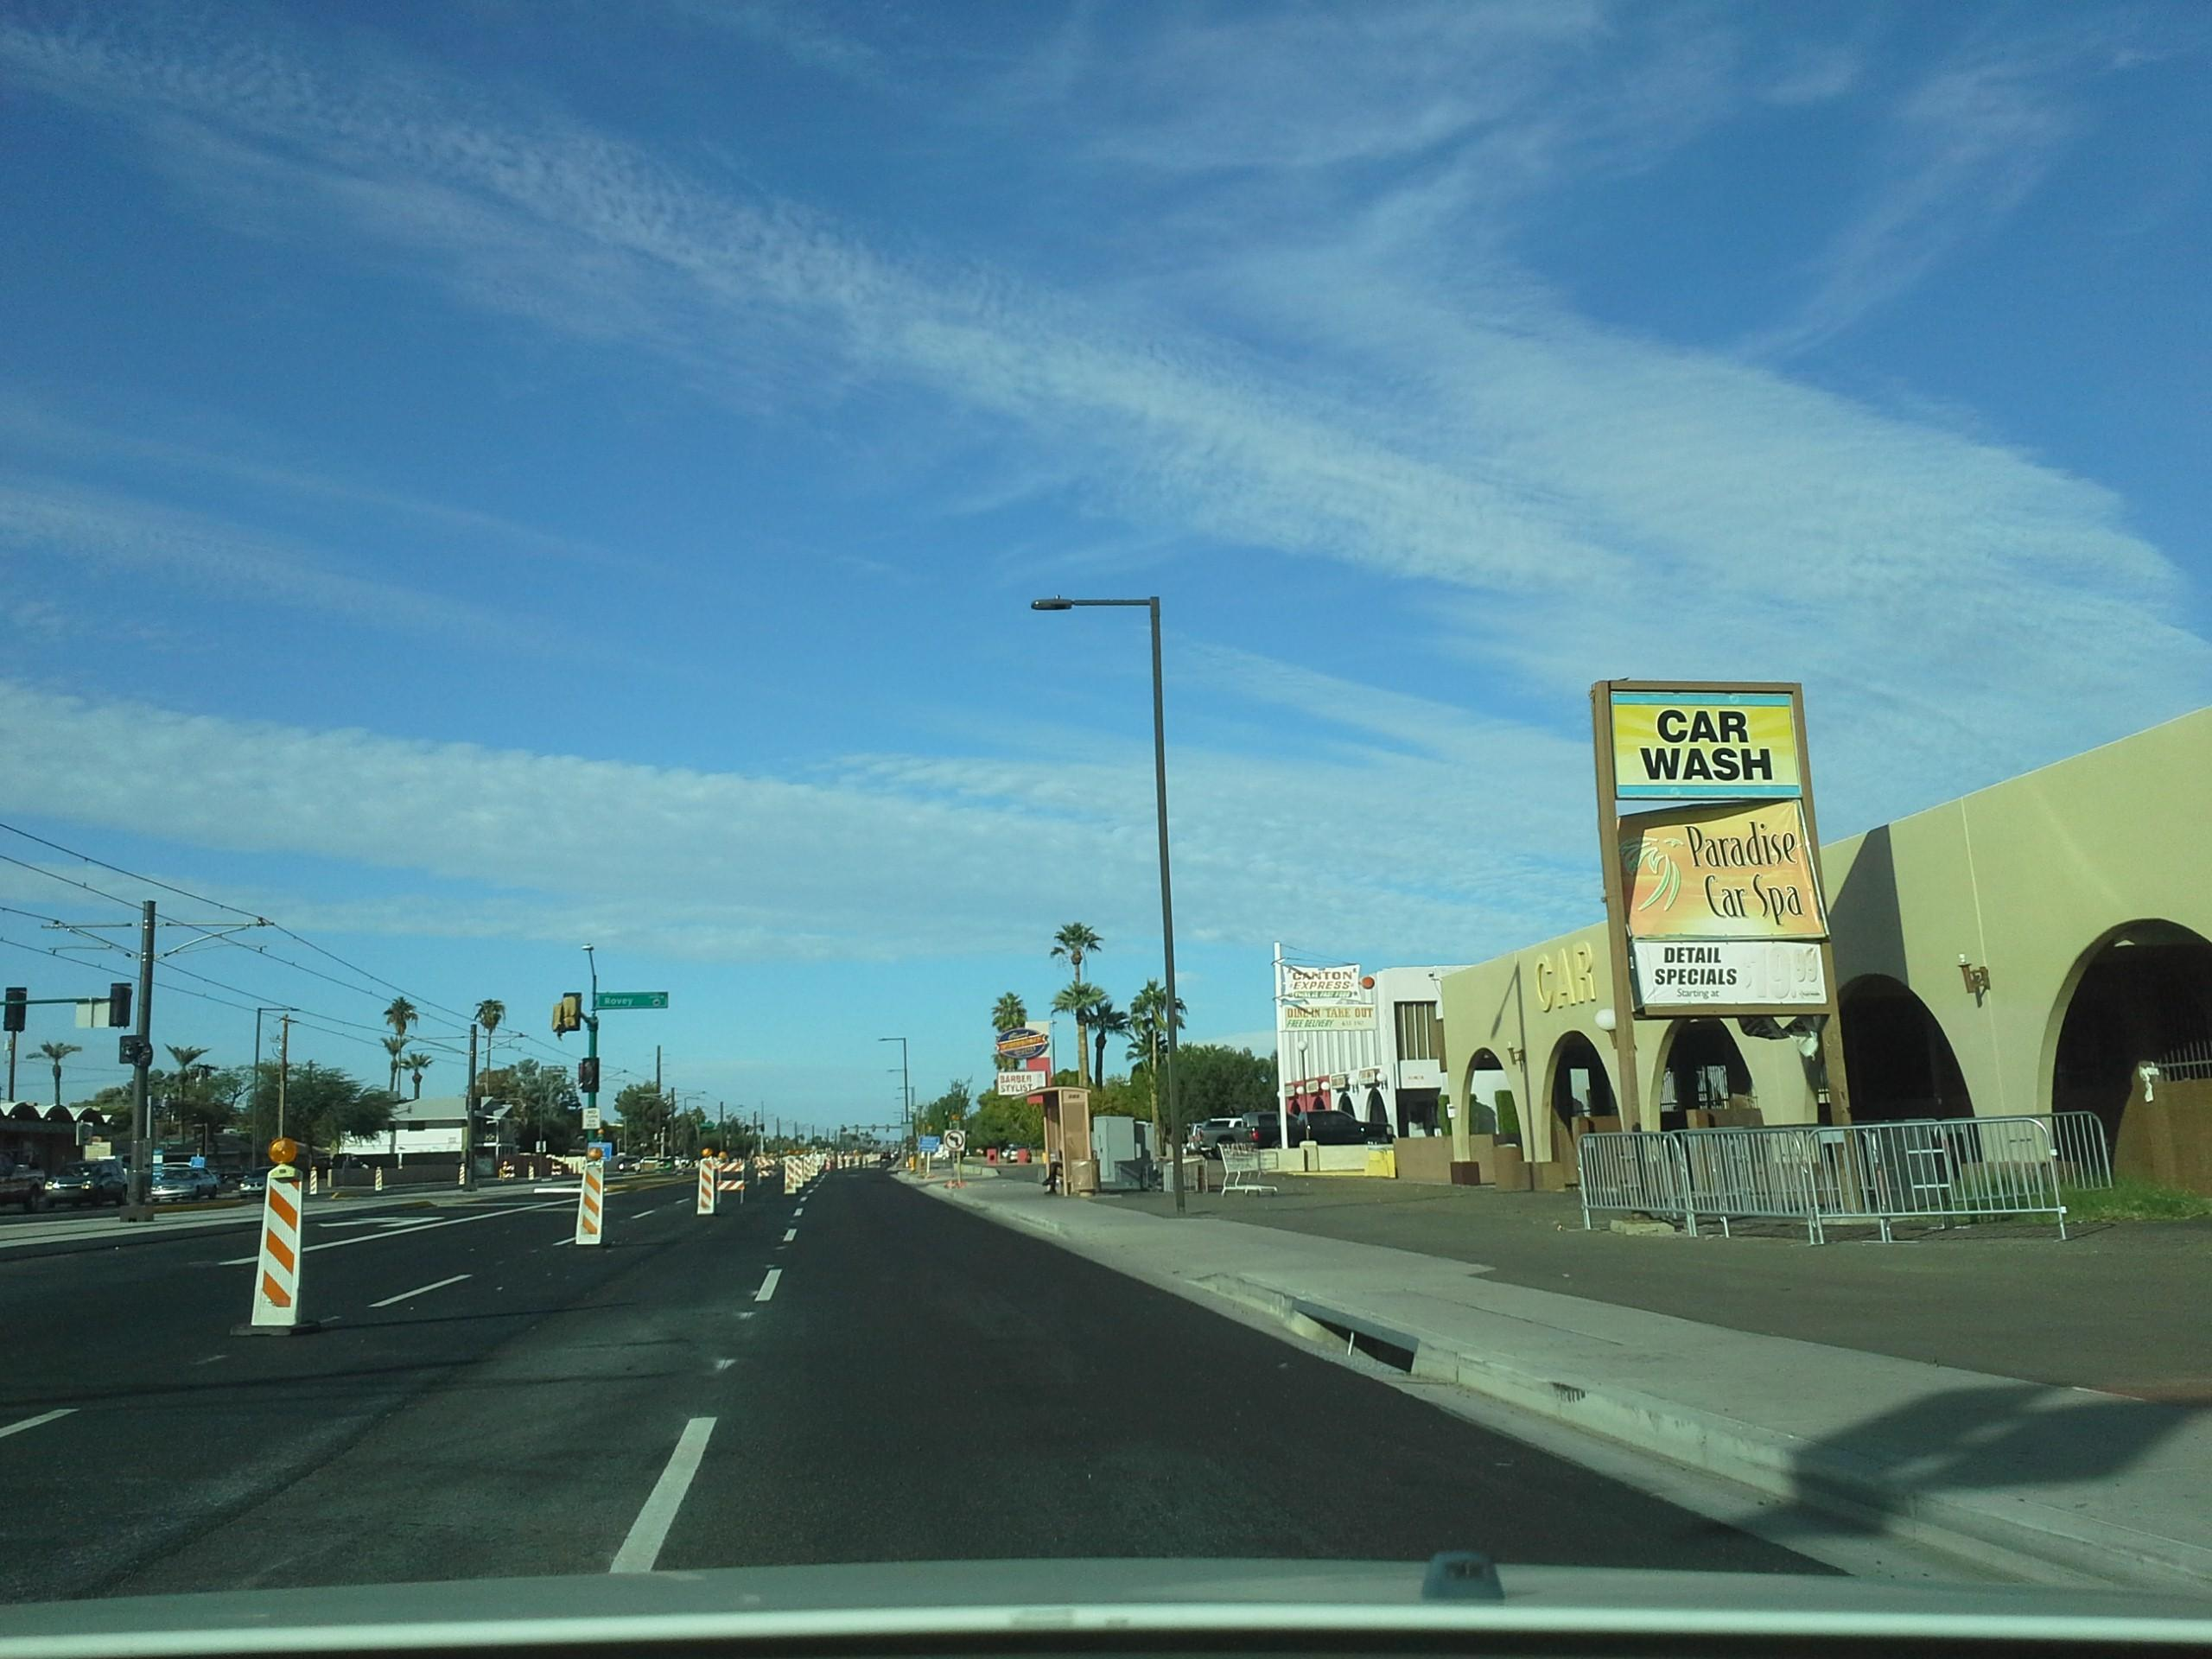vinyl banner: (1620, 791, 1815, 939), (1271, 1007, 1426, 1033)
